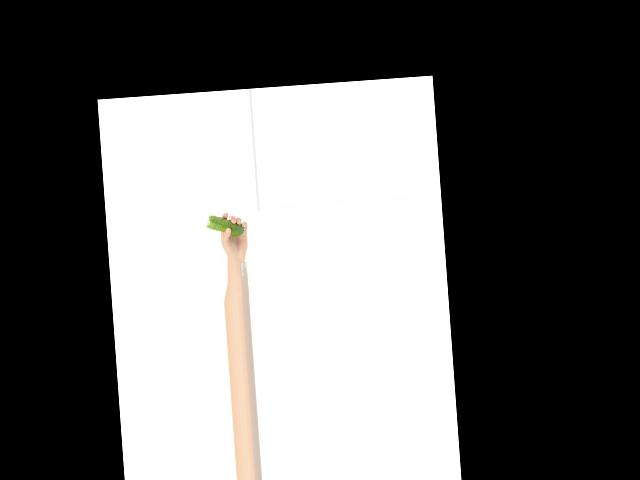cucumber: (206, 213, 245, 238)
